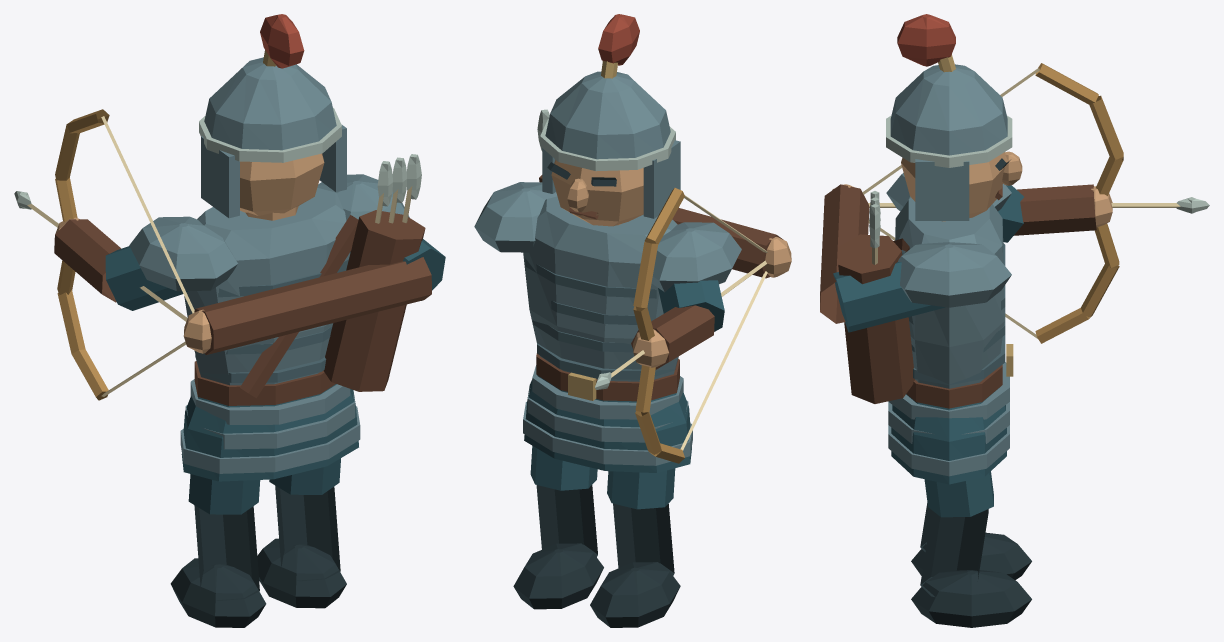
Rendered from song-archer-draw.obj.
3 views of the same model, side by side, from view 1: azimuth 30°, elevation 25°; view 2: azimuth 150°, elevation 25°; view 3: azimuth 270°, elevation 25° (orthographic). The views are drawn at different scales.
Bounding box in the file's own units: 1.36 × 2.9 × 1.73.
